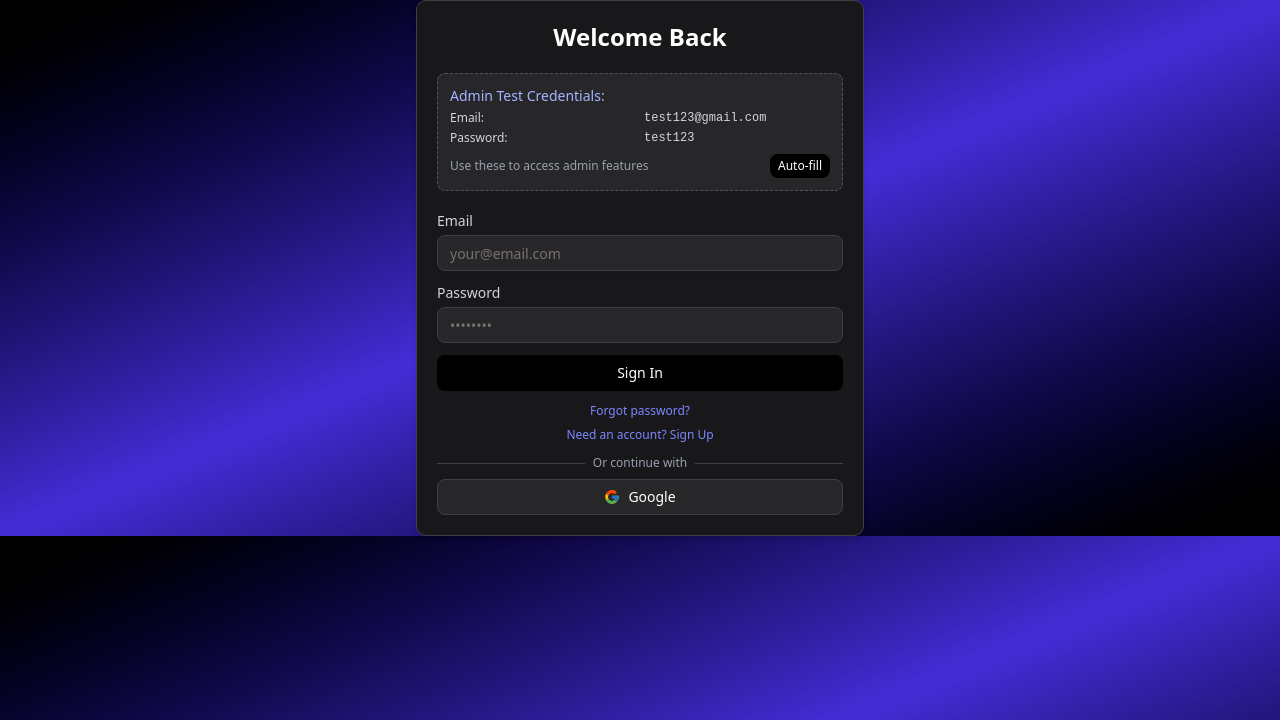
Test: LoginForm › shows reset password success
Click the button "Forgot password?". click: (640, 411)
box: [437,403,843,419]
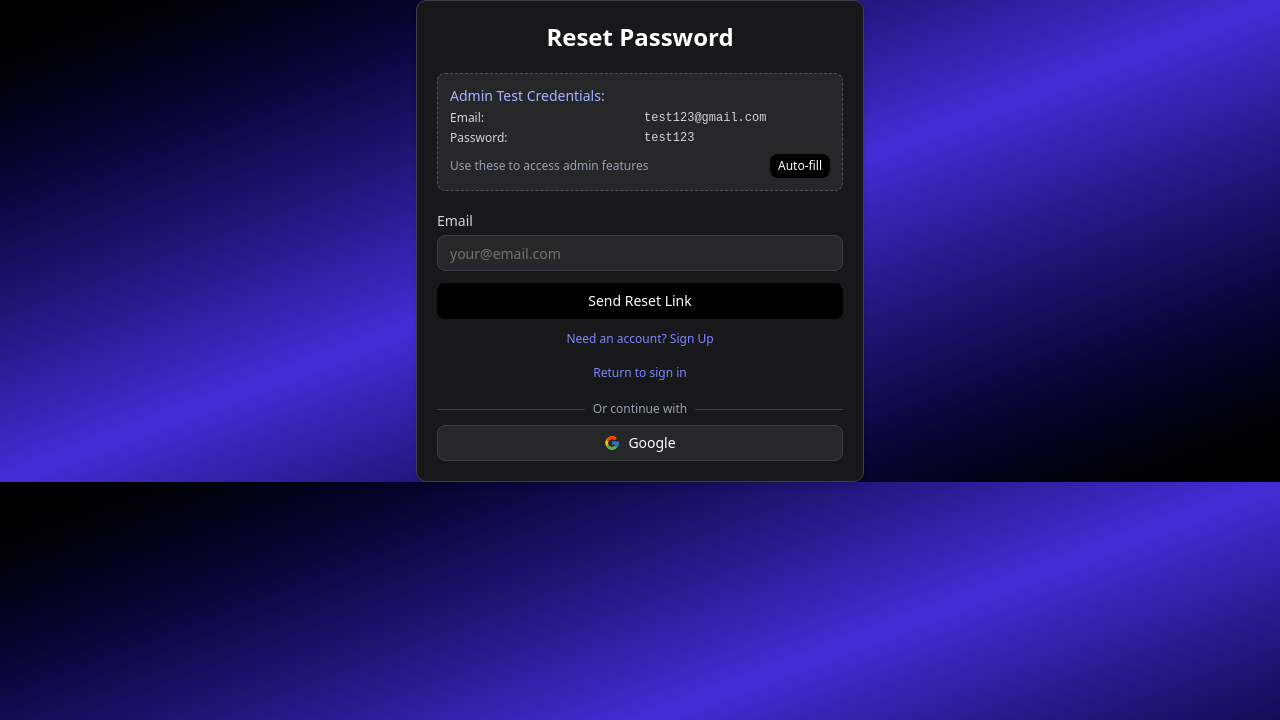
Type "test@example.com" into the field labelled "Email". click: (640, 253)
box: [437,235,843,271]
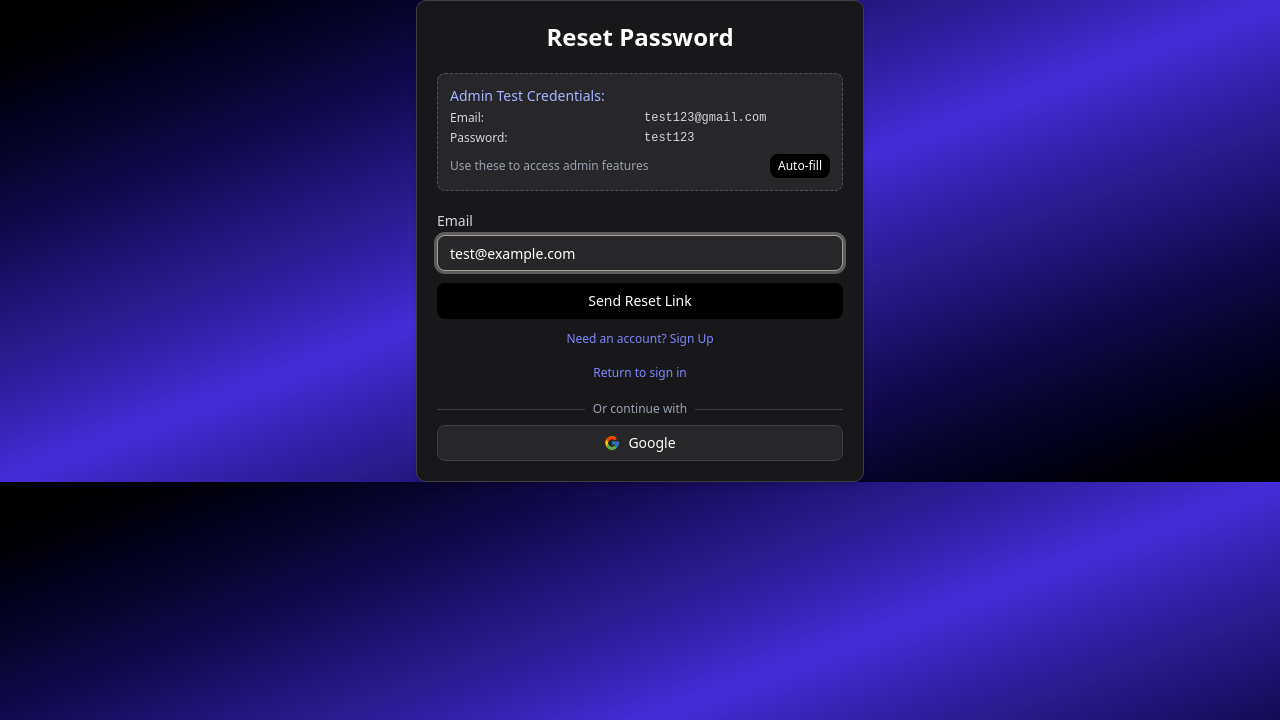
Click the button "Send Reset Link". click: (640, 301)
box: [437,283,843,319]
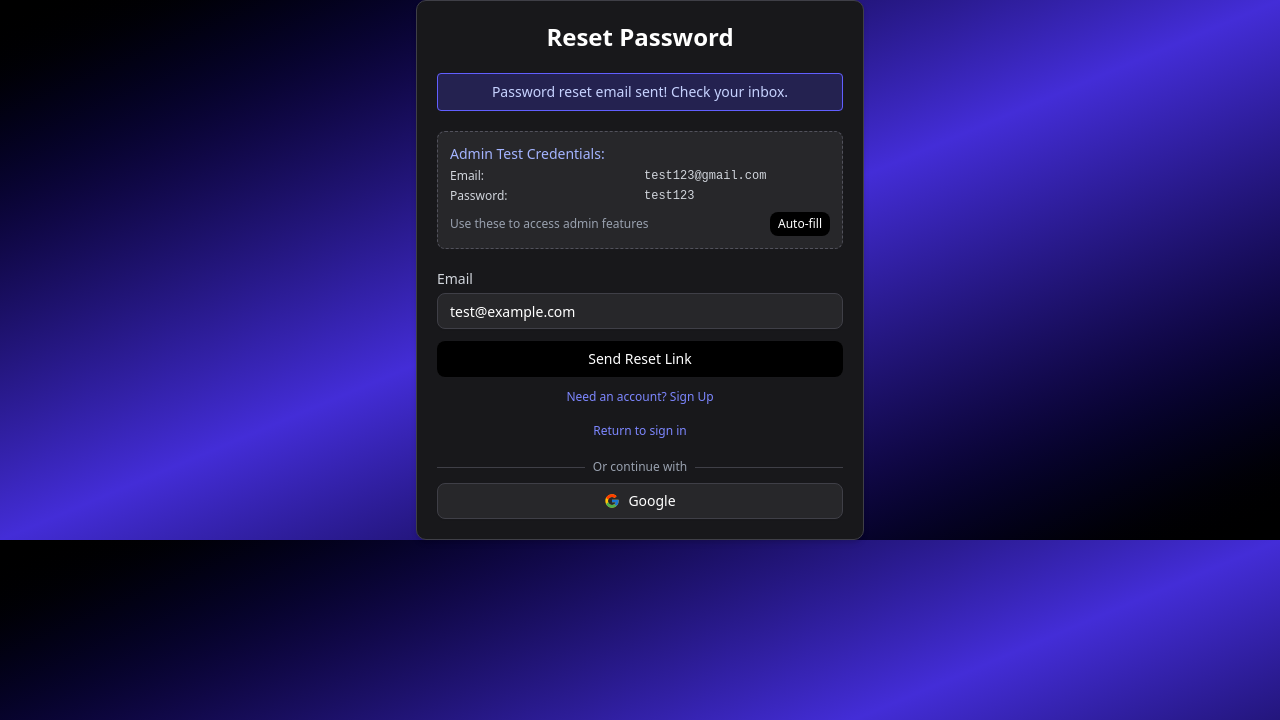
Check: the text "Password reset email sent! Check your inbox." is shown, box [492,82,788,101]
